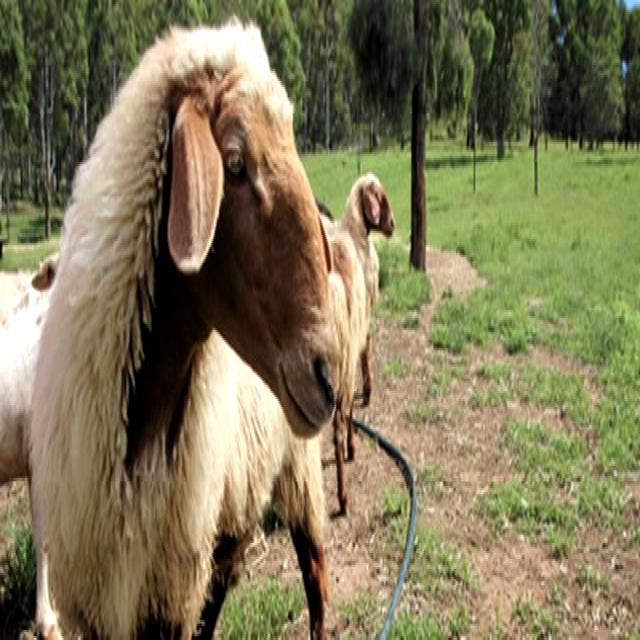sheep: (28, 27, 341, 640)
